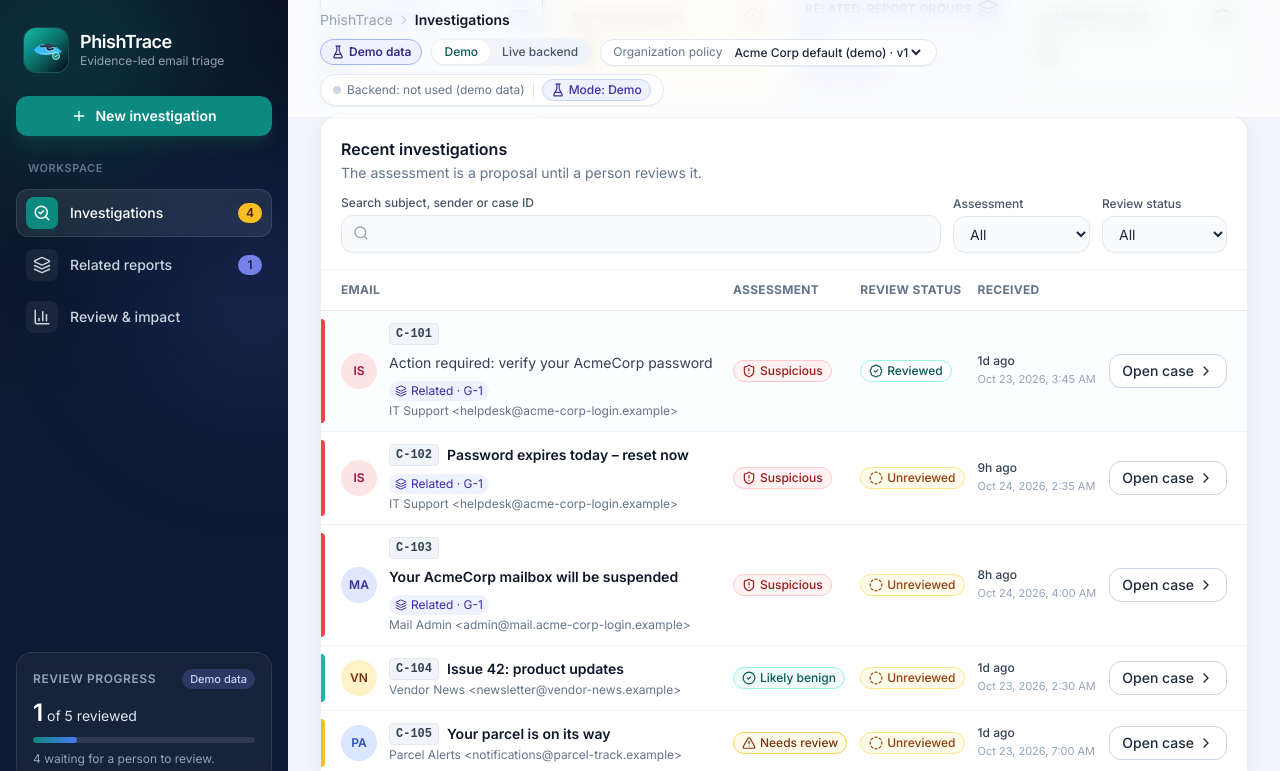
case details › never carries findings from one case into another
(page scrolled)
Step 1. Click the button with aria-label "Open case C-103:" → (1168, 585), box [1109,568,1227,602]
(page scrolled)
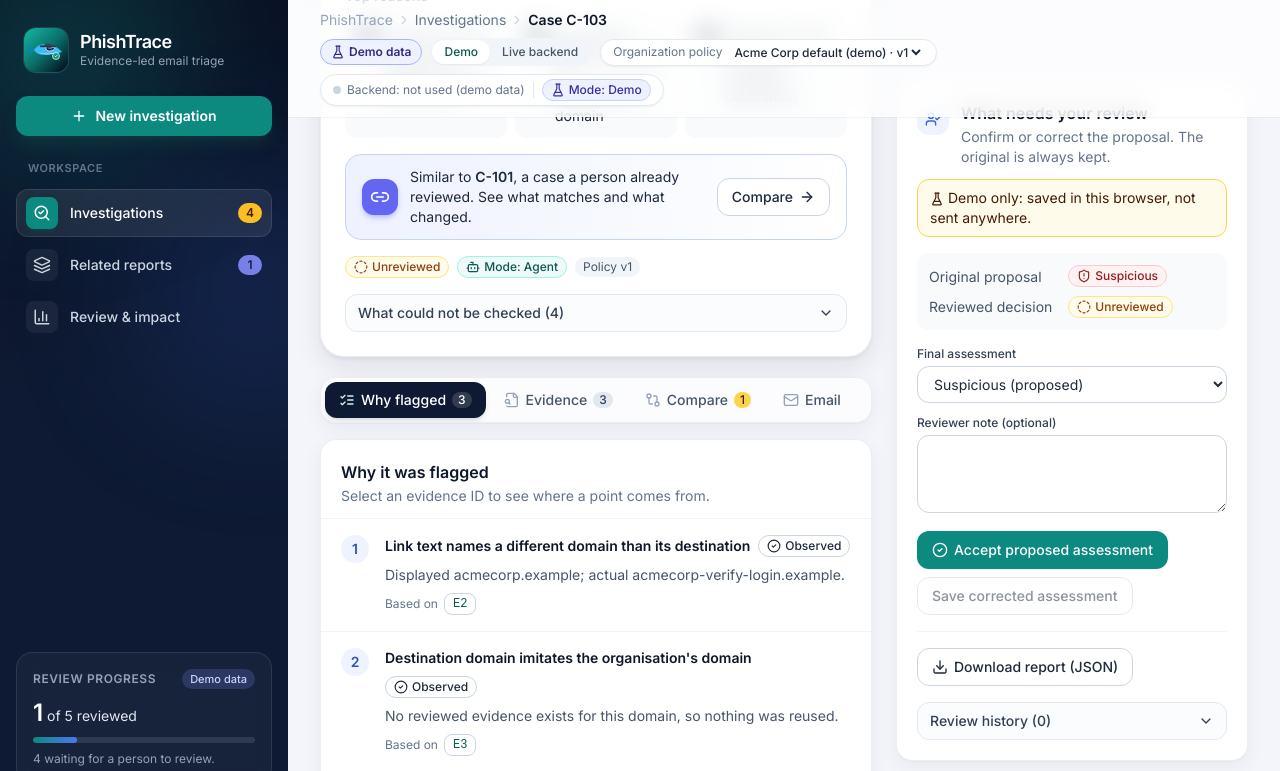
Expected: the heading "Why it was flagged" is shown, [341,462,489,482]
Step 2. Click the tab "Evidence 3" → (558, 400), box [490,382,627,418]
(page scrolled)
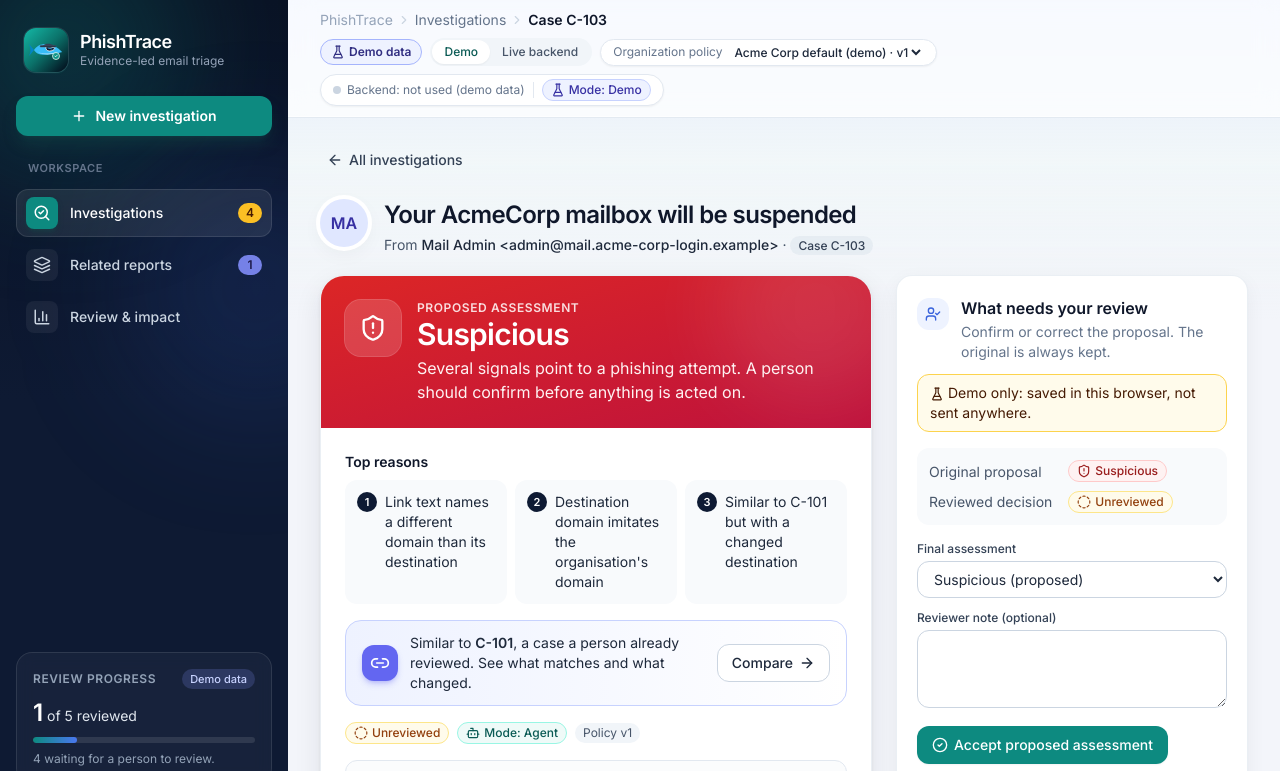
Step 3. Click the button "All investigations" → (395, 160), box [312,141,478,179]
(page scrolled)
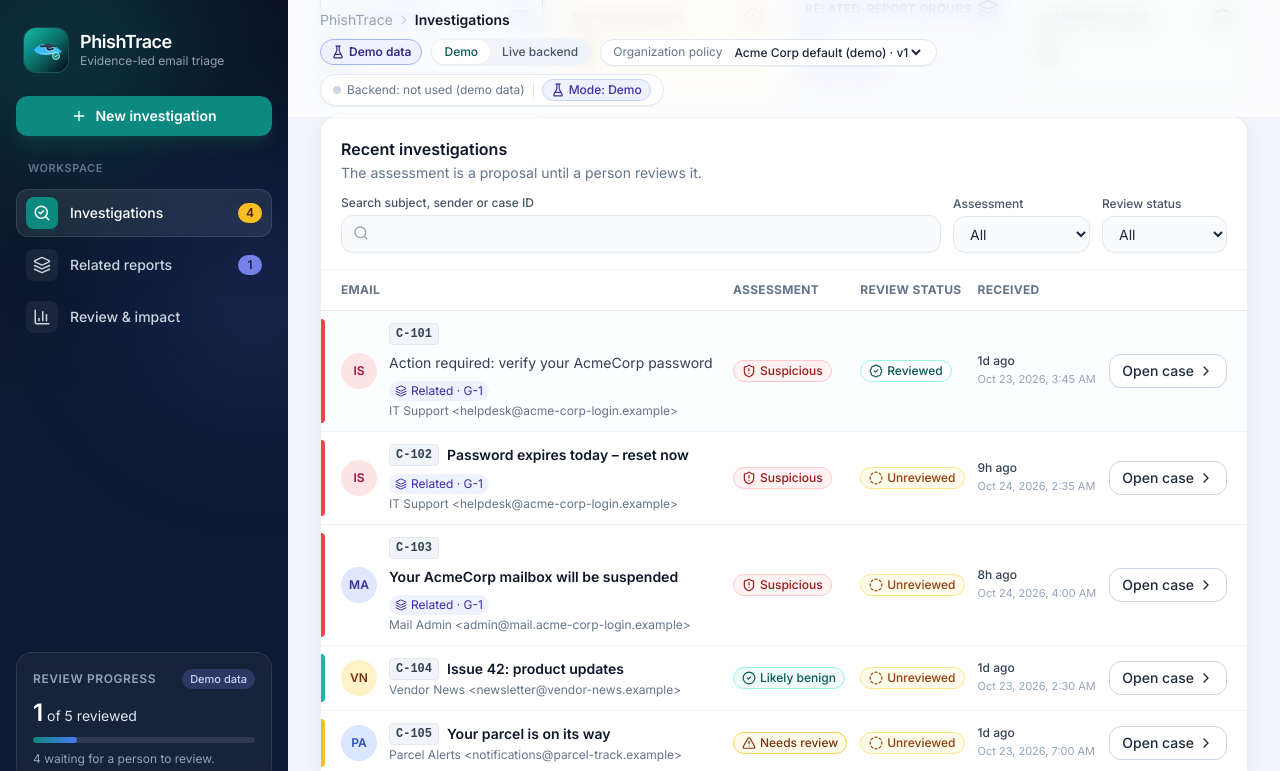
Step 4. Click the 4th button "Open case" → (1168, 678), box [1109,661,1227,695]
(page scrolled)
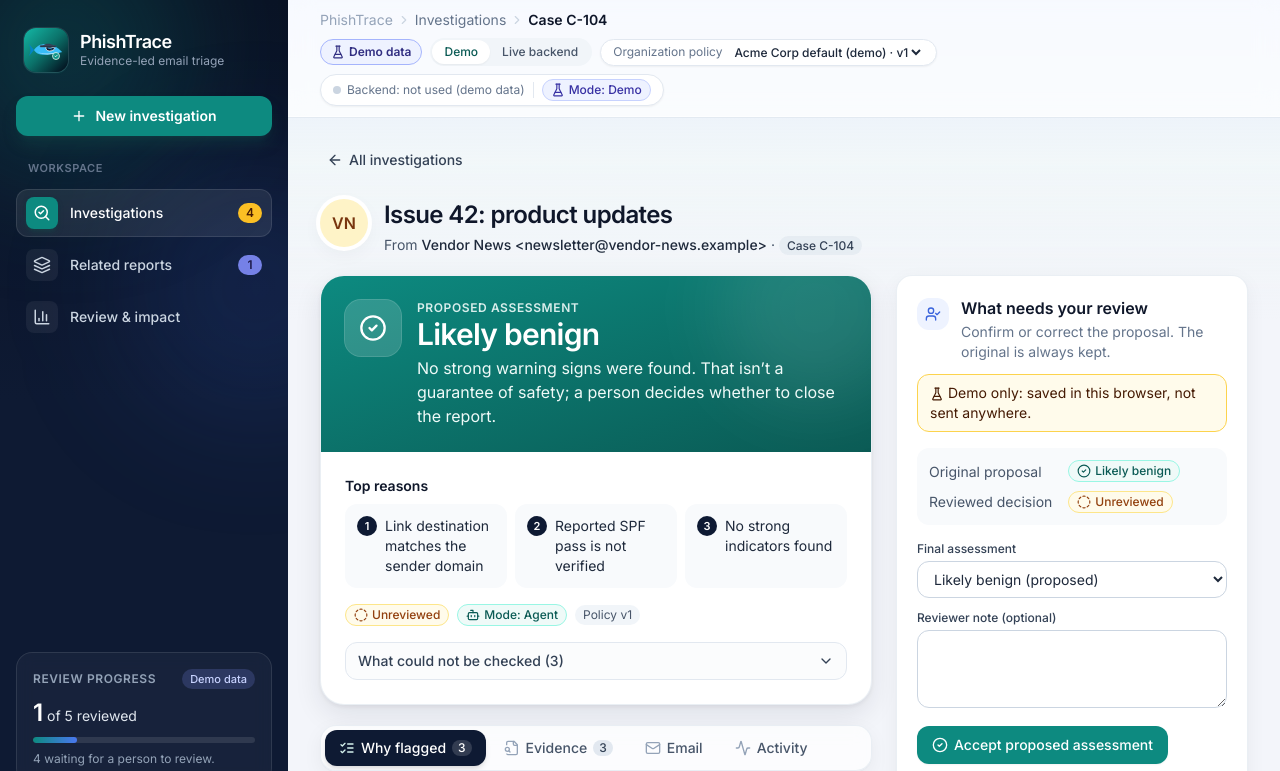
Expected: the text "acmecorp-verify-login.example" is not shown
Expected: the text "Link destination matches the sender domain" is shown, [385,516,495,576]
